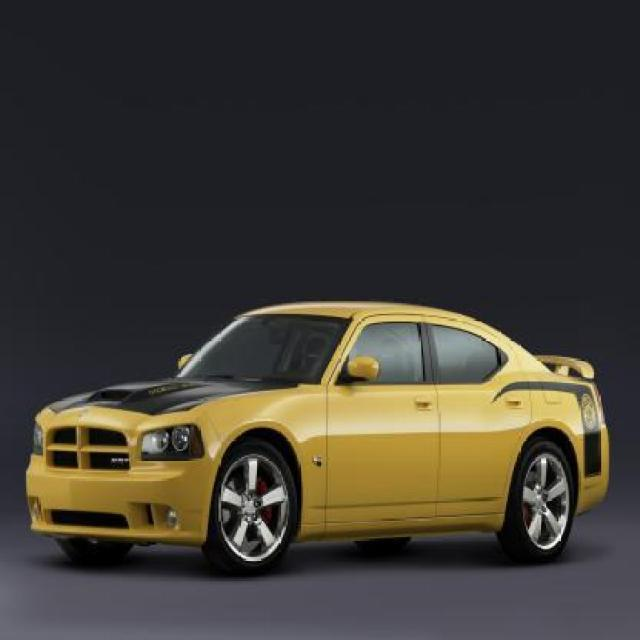vehicle: (27, 270, 616, 584)
